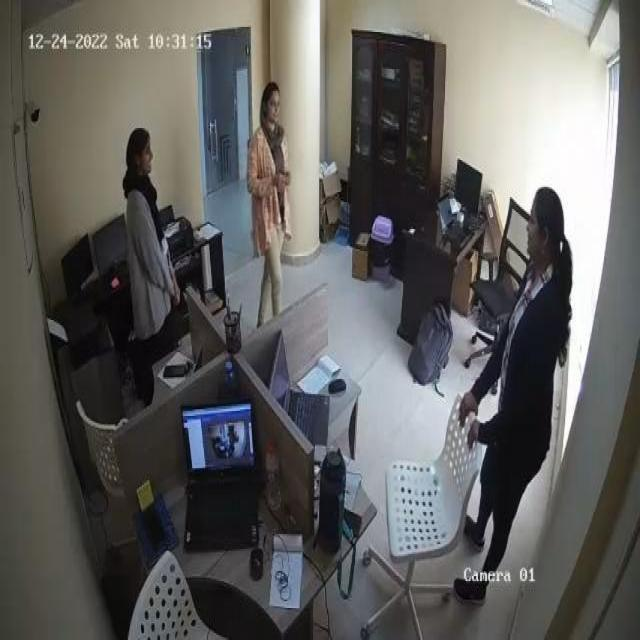bare_hand: (450, 372, 486, 426), (462, 416, 493, 475), (269, 165, 293, 199), (164, 273, 182, 310)
